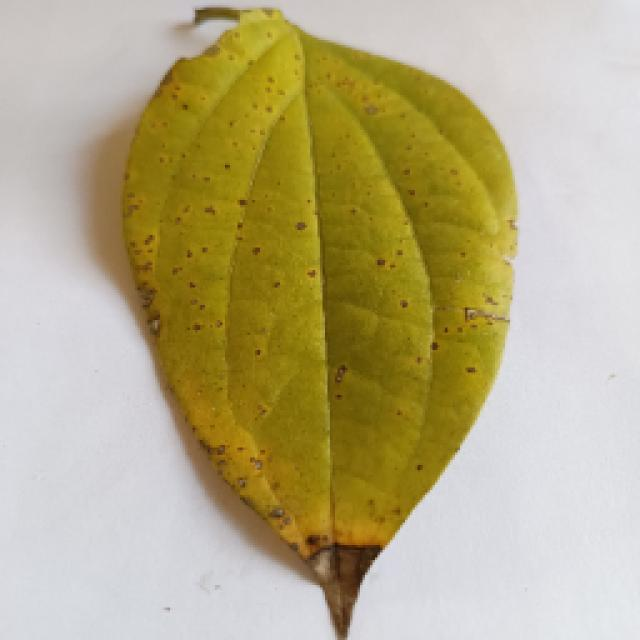slow-decline: (88, 20, 548, 635)
